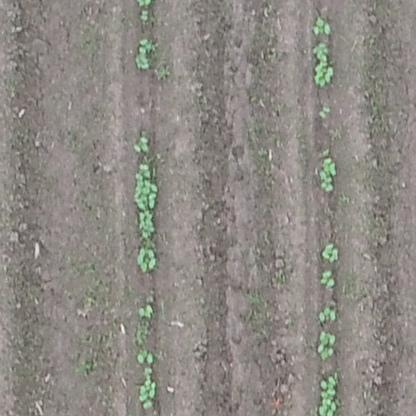vc: (132, 163, 162, 240), (310, 41, 337, 90), (317, 376, 345, 414), (135, 368, 159, 410), (315, 158, 338, 192), (131, 38, 155, 70), (316, 330, 339, 360), (136, 245, 159, 273), (318, 238, 342, 263), (130, 133, 152, 154), (312, 14, 332, 37), (316, 305, 341, 323), (136, 302, 156, 322), (318, 269, 337, 289), (316, 103, 335, 120), (136, 349, 155, 364), (139, 9, 151, 23)
